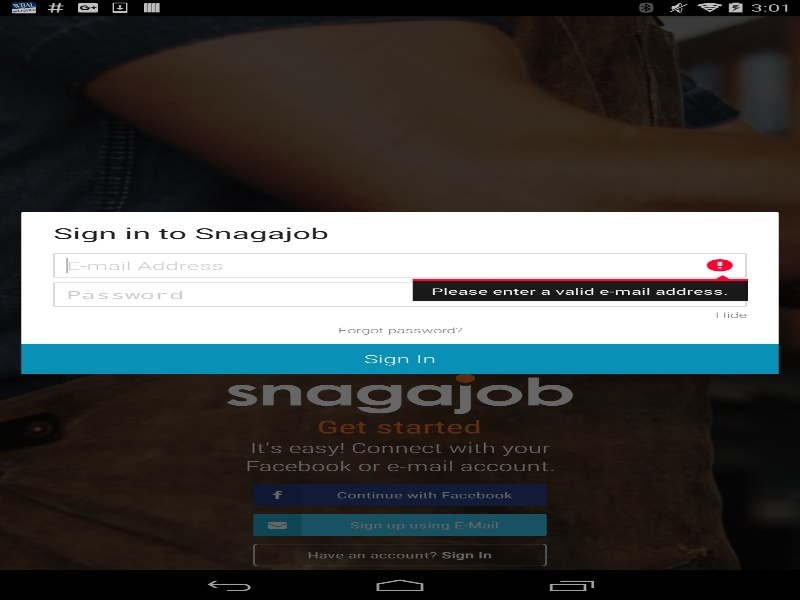Button: (21, 343, 778, 373)
Input: (53, 253, 746, 277), (53, 282, 746, 306)
